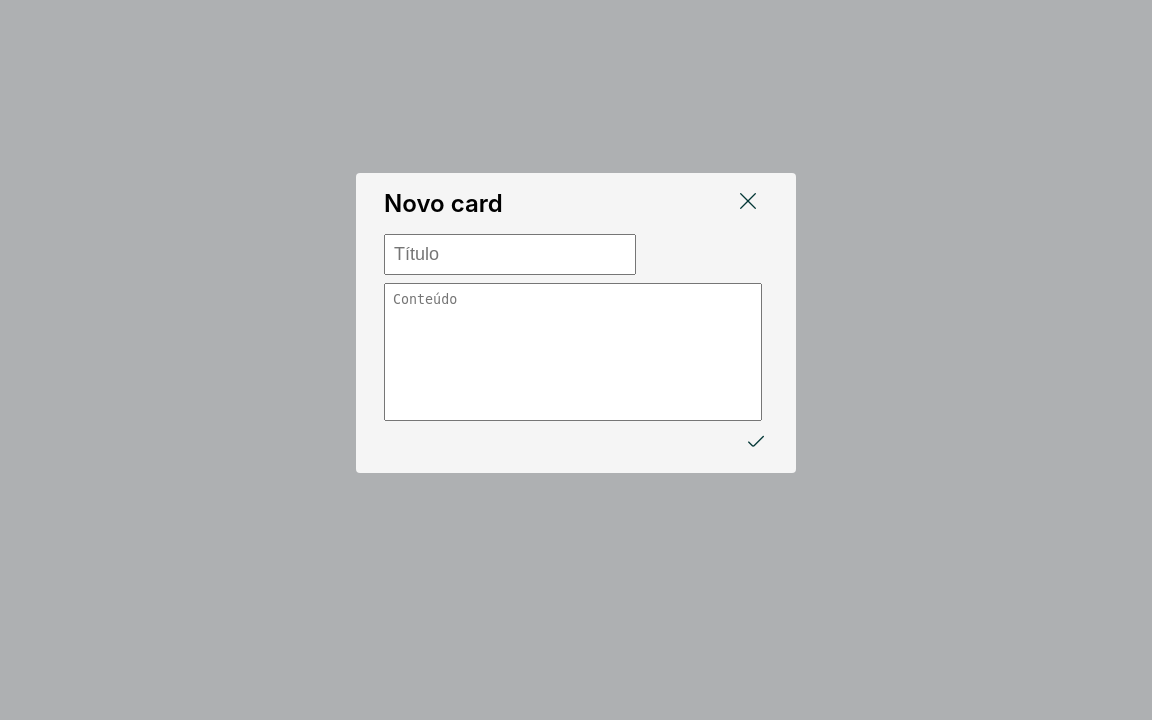
Scenario: <NewCardModal /> › should display error message on confirm if any input is not set › content is missing
Type "New card content" into the text box with test id "content-textarea" at (573, 352), box [384,283,762,421]
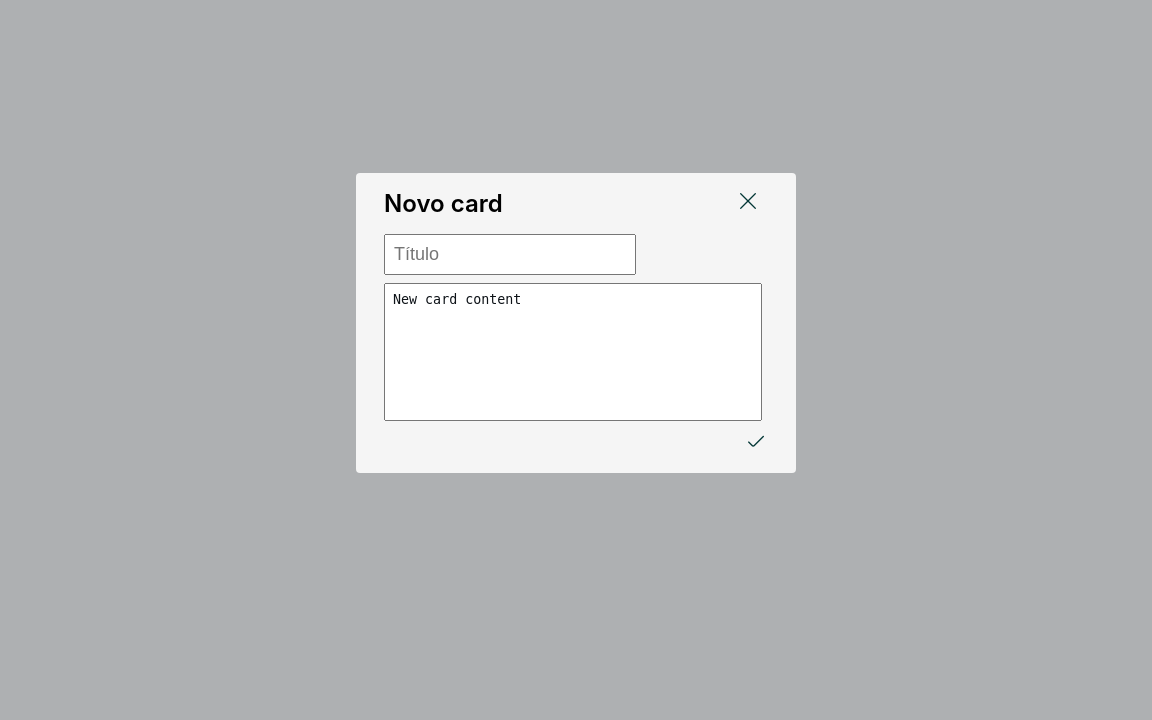
Click the button with test id "submit-button" at (756, 443), box [744,429,768,457]
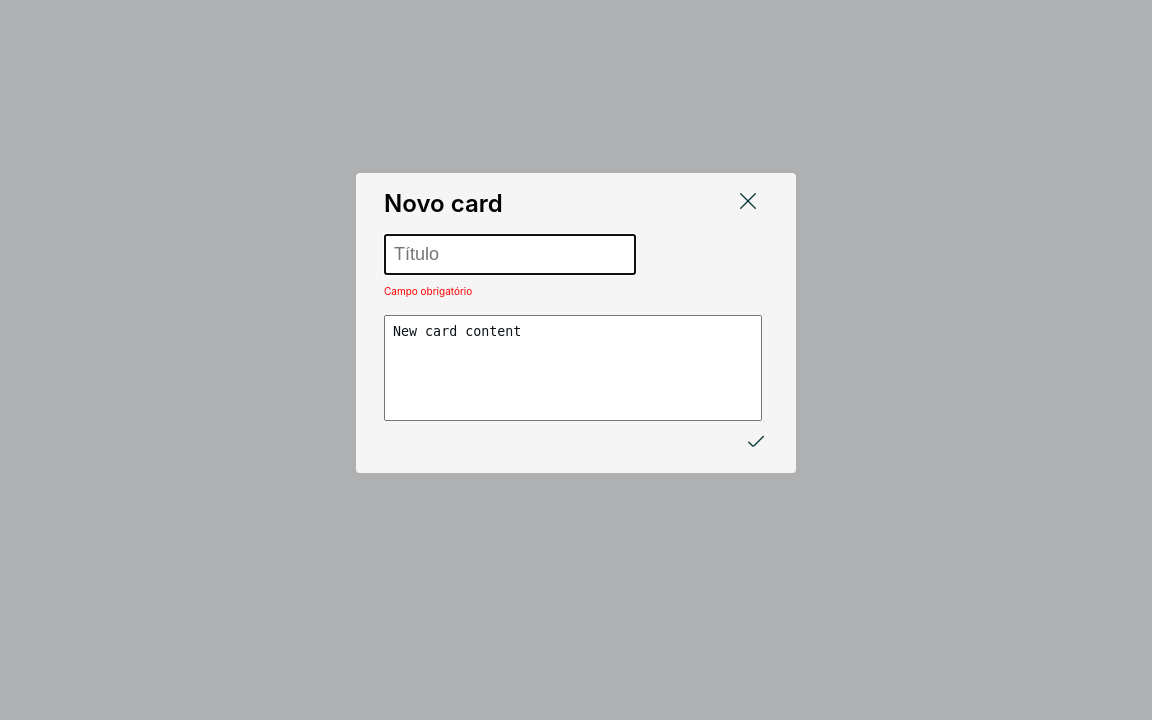
Check: the text "Campo obrigatório" is shown, box [376,285,472,297]
